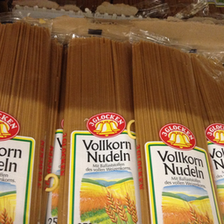pasta: (130, 31, 223, 224), (66, 35, 140, 223), (1, 20, 55, 224)
